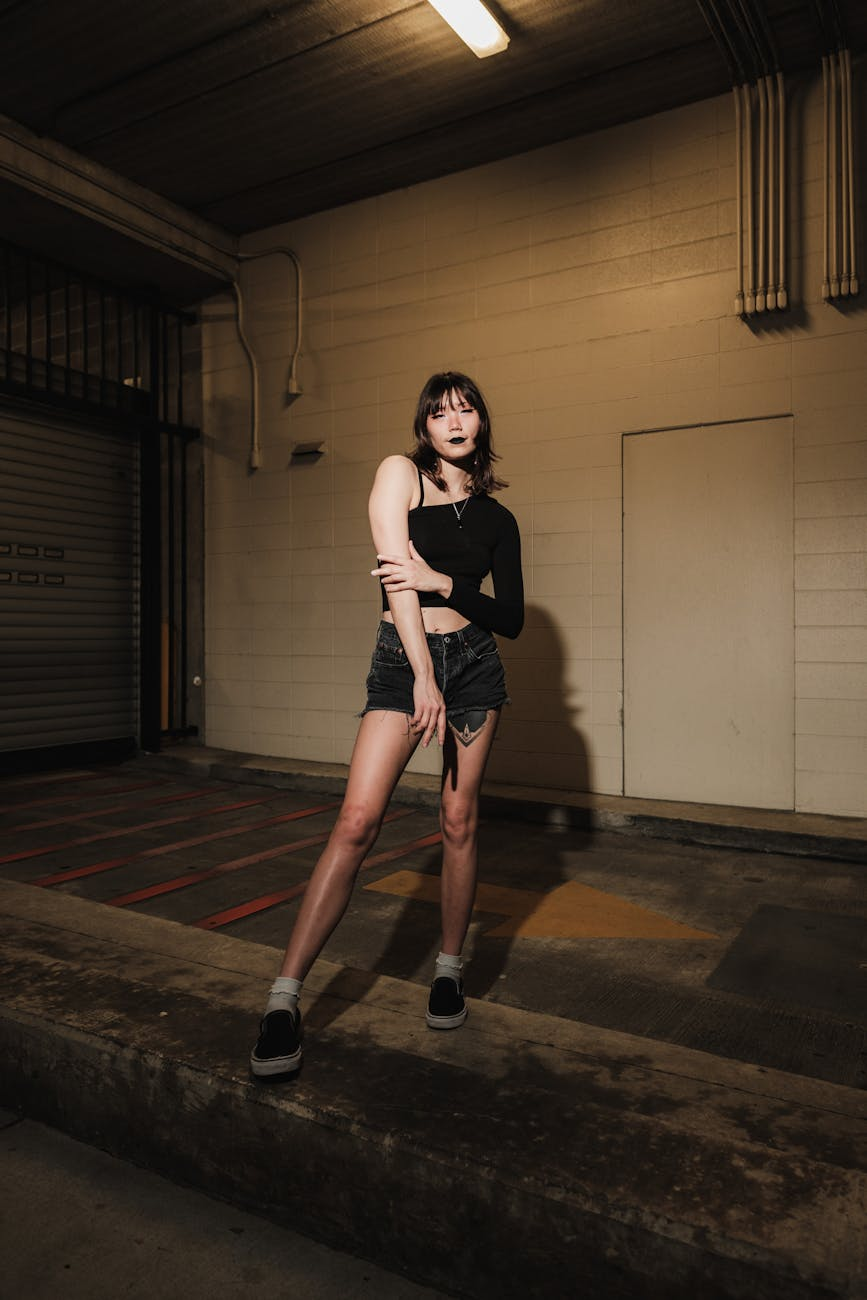crop_top: (338, 446, 533, 608)
shorts: (355, 611, 515, 733)
